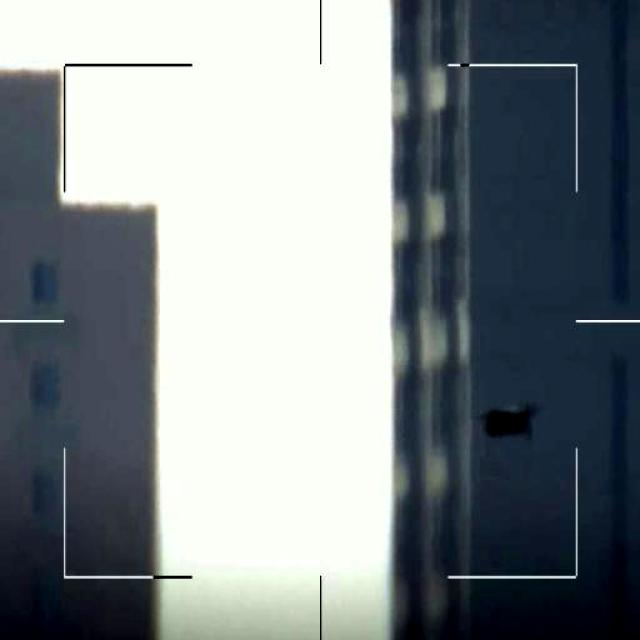bird: (480, 401, 531, 441)
